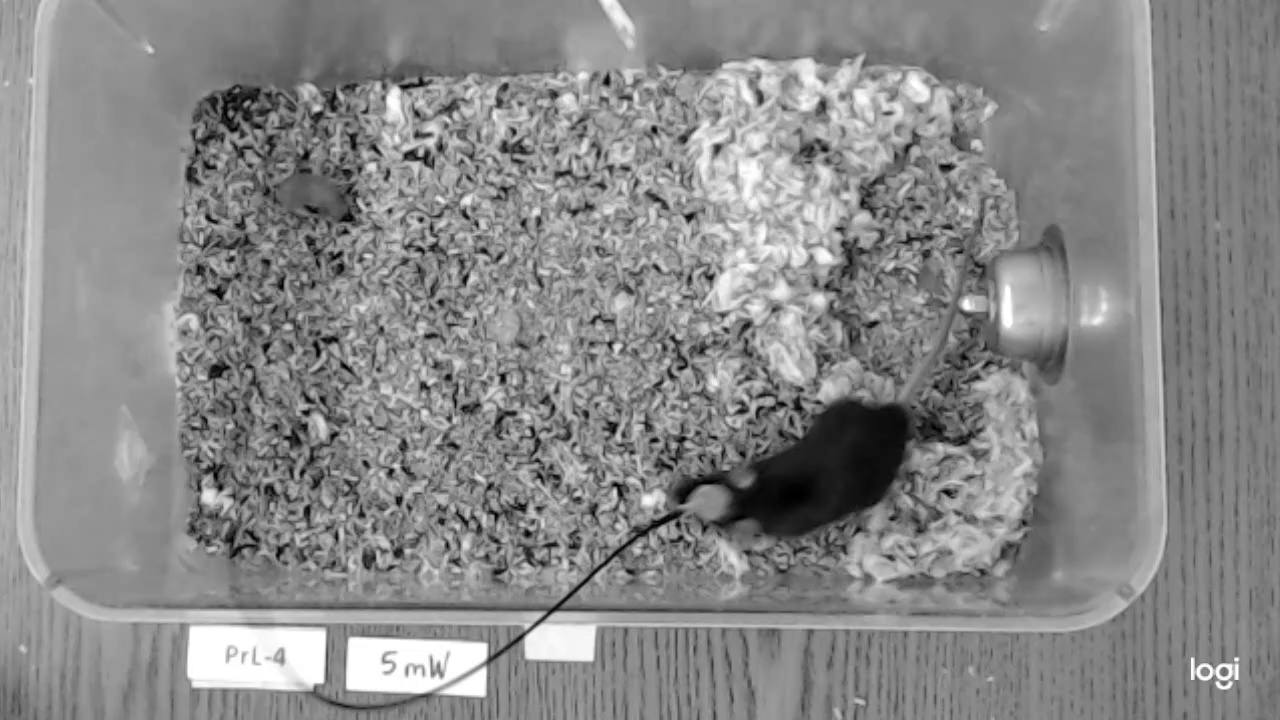parent-mice: (672, 399, 907, 536)
